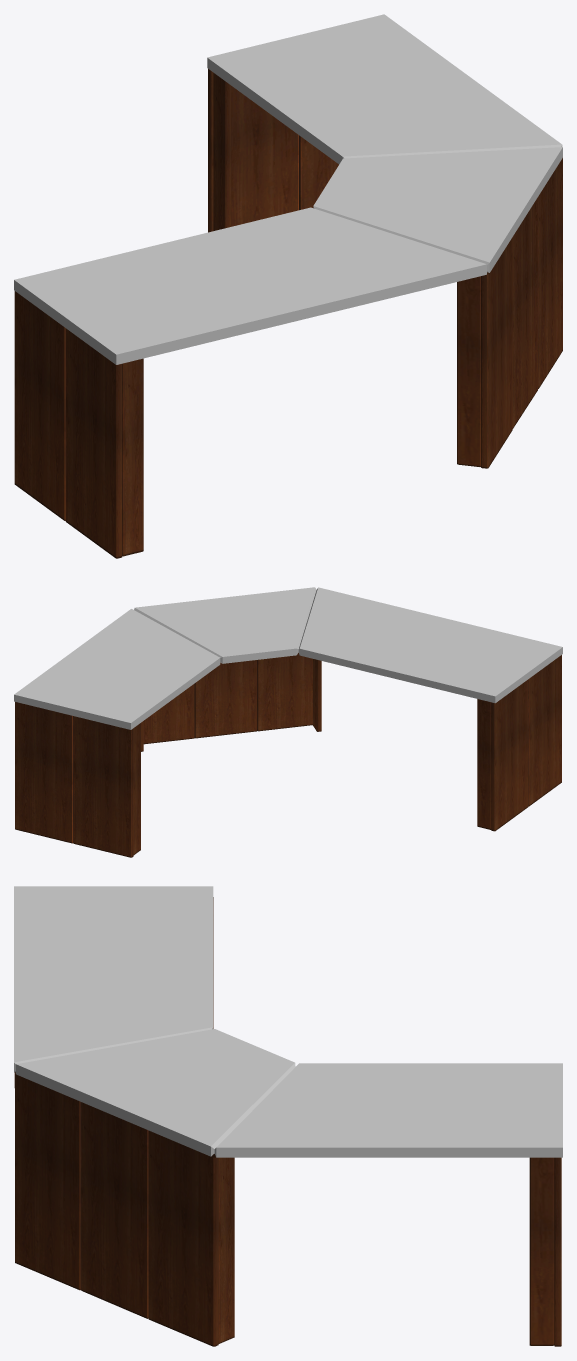
The model's file is desk_corner.dae.
3 renders of one model, top to bottom at view 1: azimuth 30°, elevation 25°; view 2: azimuth 150°, elevation 25°; view 3: azimuth 270°, elevation 25°, orthographic. The views are drawn at different scales.
Visible parts, largest first — view 1: polySurface1, polySurface25; view 2: polySurface1, polySurface25; view 3: polySurface1, polySurface25.
Part boxes in pixels (x1,y1,x2,y2): polySurface1: [14, 14, 562, 364]; polySurface25: [14, 69, 562, 558]; polySurface1: [14, 587, 562, 729]; polySurface25: [15, 653, 561, 857]; polySurface1: [14, 886, 562, 1157]; polySurface25: [14, 897, 561, 1346].
Bounding box in the file's own units: 2.95 × 1.05 × 2.62.
